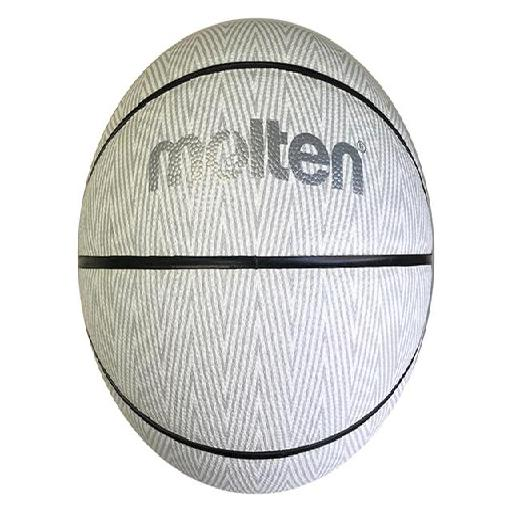ball: (77, 20, 434, 494)
